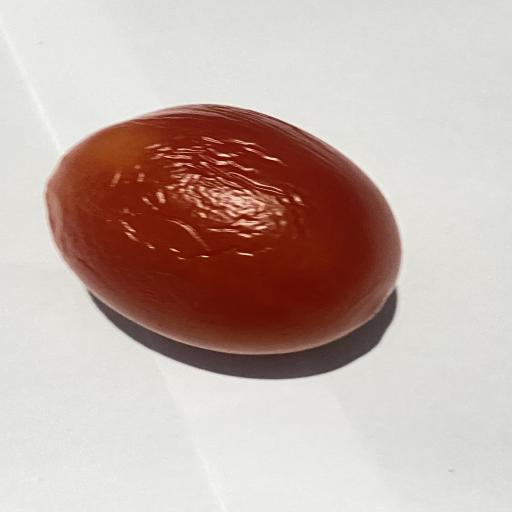spoiled: (47, 105, 401, 353)
